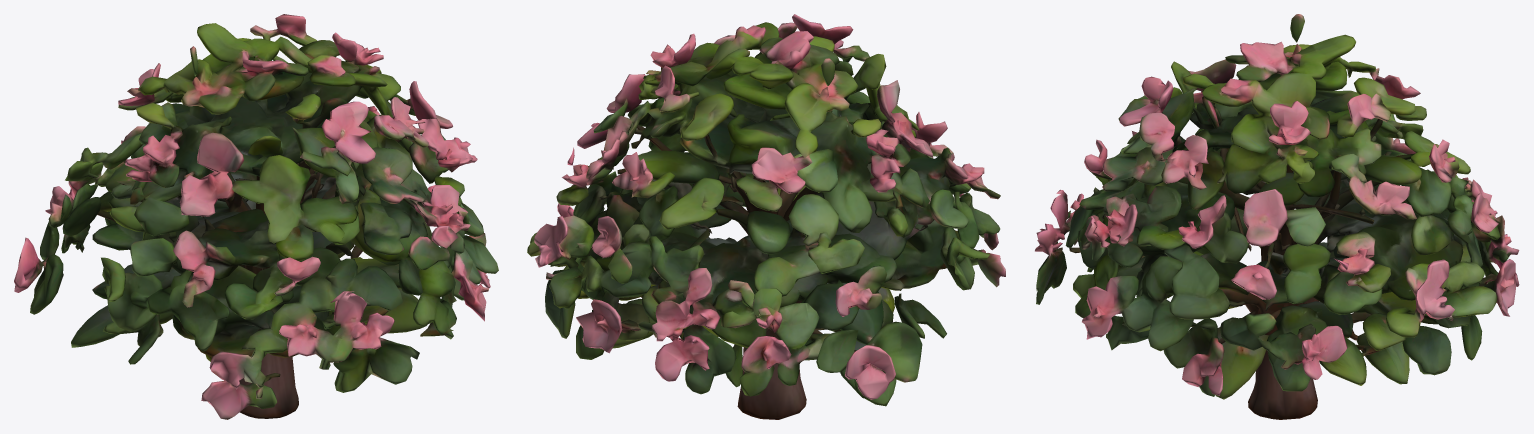
Rendered from nature-bush-flower.glb.
3 renders of one model, left to right at view 1: azimuth 30°, elevation 25°; view 2: azimuth 150°, elevation 25°; view 3: azimuth 270°, elevation 25°, orthographic.
Visible parts, largest first — view 1: tripo_node_5f186f4e-652c-496c-94c0-3fcc91ad5e10; view 2: tripo_node_5f186f4e-652c-496c-94c0-3fcc91ad5e10; view 3: tripo_node_5f186f4e-652c-496c-94c0-3fcc91ad5e10.
Boxes of the visible parts, x1,y1,x2,y2 form: tripo_node_5f186f4e-652c-496c-94c0-3fcc91ad5e10: [14, 14, 498, 419]; tripo_node_5f186f4e-652c-496c-94c0-3fcc91ad5e10: [527, 14, 1005, 419]; tripo_node_5f186f4e-652c-496c-94c0-3fcc91ad5e10: [1035, 14, 1519, 419].
Bounding box in the file's own units: 1.34 × 1.2 × 1.45.
1 material, 1 textured.
